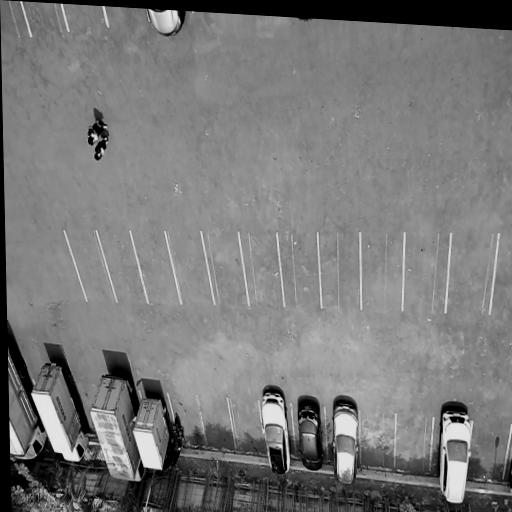Car: (89, 364, 149, 490), (30, 352, 95, 466), (7, 321, 51, 471), (131, 391, 179, 477), (436, 403, 472, 512), (257, 385, 295, 480), (292, 392, 328, 483), (327, 395, 361, 488), (143, 9, 188, 41), (508, 424, 512, 512)
Space Available: (446, 234, 498, 317), (63, 230, 117, 303), (404, 233, 451, 315), (130, 231, 180, 305), (360, 232, 404, 315), (97, 232, 147, 305), (202, 232, 250, 308), (165, 232, 214, 306), (318, 232, 361, 314), (238, 234, 284, 309), (277, 235, 322, 311), (467, 422, 512, 488), (394, 415, 433, 477), (198, 398, 236, 456), (361, 410, 396, 472), (228, 399, 264, 458), (492, 236, 512, 317), (21, 3, 68, 34), (61, 4, 109, 31), (103, 6, 148, 28)
